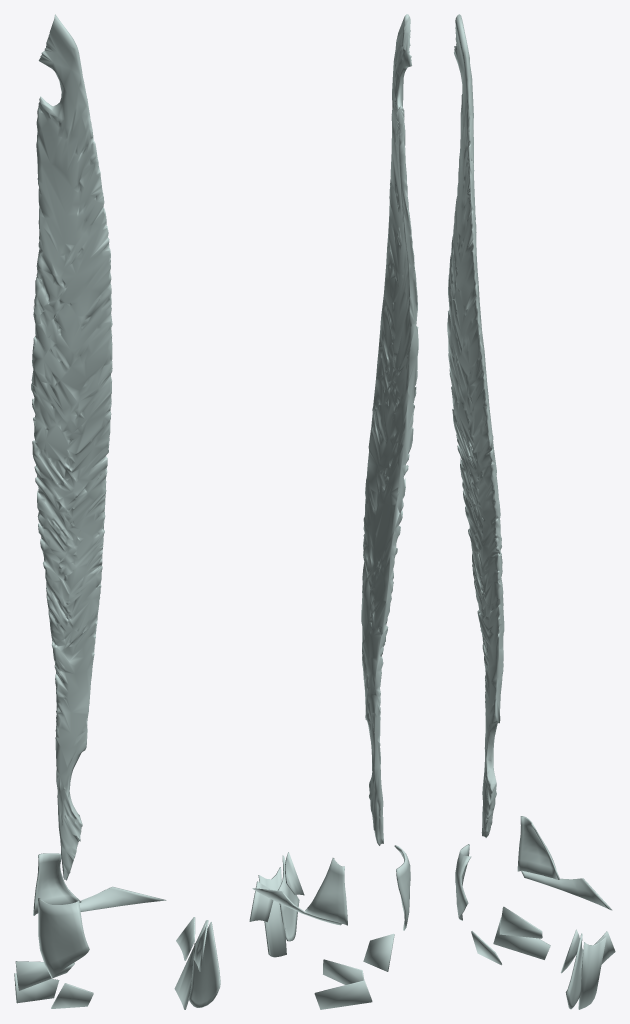
The model's file is joints.glb.
3 views of the same model, side by side, from view 1: azimuth 30°, elevation 25°; view 2: azimuth 150°, elevation 25°; view 3: azimuth 330°, elevation 25° (orthographic). The views are drawn at different scales.
Visible parts, largest first — view 1: Interosseous membrane of leg.r, Anterior tibiofibular ligament.r, Tibionavicular ligament.r, Posterior tibiofibular ligament.r, Transverse tibiofibular ligament.r, Posterior talofibular ligament.r, Calcaneofibular ligament.r, Anterior talofibular ligament.r, Tibiocalcaneal ligament.r; view 2: Interosseous membrane of leg.r, Posterior tibiofibular ligament.r, Tibiocalcaneal ligament.r, Tibionavicular ligament.r, Calcaneofibular ligament.r, Anterior talofibular ligament.r, Anterior tibiofibular ligament.r, Posterior talofibular ligament.r, Posterior tibiotalar ligament.r, Transverse tibiofibular ligament.r; view 3: Interosseous membrane of leg.r, Posterior tibiofibular ligament.r, Tibiocalcaneal ligament.r, Transverse tibiofibular ligament.r, Tibionavicular ligament.r, Calcaneofibular ligament.r, Posterior talofibular ligament.r, Anterior tibiofibular ligament.r.
Part boxes in pixels (x1,y1,x2,y2): Interosseous membrane of leg.r: (31,14,112,880); Anterior tibiofibular ligament.r: (38,898,89,977); Tibionavicular ligament.r: (188,920,220,1007); Posterior tibiofibular ligament.r: (33,853,81,915); Transverse tibiofibular ligament.r: (79,886,166,911); Posterior talofibular ligament.r: (15,961,74,990); Calcaneofibular ligament.r: (14,973,59,1003); Anterior talofibular ligament.r: (51,983,93,1008); Tibiocalcaneal ligament.r: (174,920,206,1009); Interosseous membrane of leg.r: (361,14,418,845); Posterior tibiofibular ligament.r: (305,858,347,925); Tibiocalcaneal ligament.r: (258,867,286,957); Tibionavicular ligament.r: (278,852,304,941); Calcaneofibular ligament.r: (314,980,372,1009); Anterior talofibular ligament.r: (363,933,394,971); Anterior tibiofibular ligament.r: (394,845,410,930); Posterior talofibular ligament.r: (323,959,364,984); Posterior tibiotalar ligament.r: (249,881,273,922); Transverse tibiofibular ligament.r: (252,888,341,925); Interosseous membrane of leg.r: (447,14,504,837); Posterior tibiofibular ligament.r: (517,816,559,879); Tibiocalcaneal ligament.r: (578,937,606,1009); Transverse tibiofibular ligament.r: (521,870,612,910); Tibionavicular ligament.r: (560,929,583,1009); Calcaneofibular ligament.r: (493,917,550,959); Posterior talofibular ligament.r: (499,906,542,938); Anterior tibiofibular ligament.r: (455,844,471,920).
Size of the model in its own units: 0.0602 by 0.343 by 0.0439.
